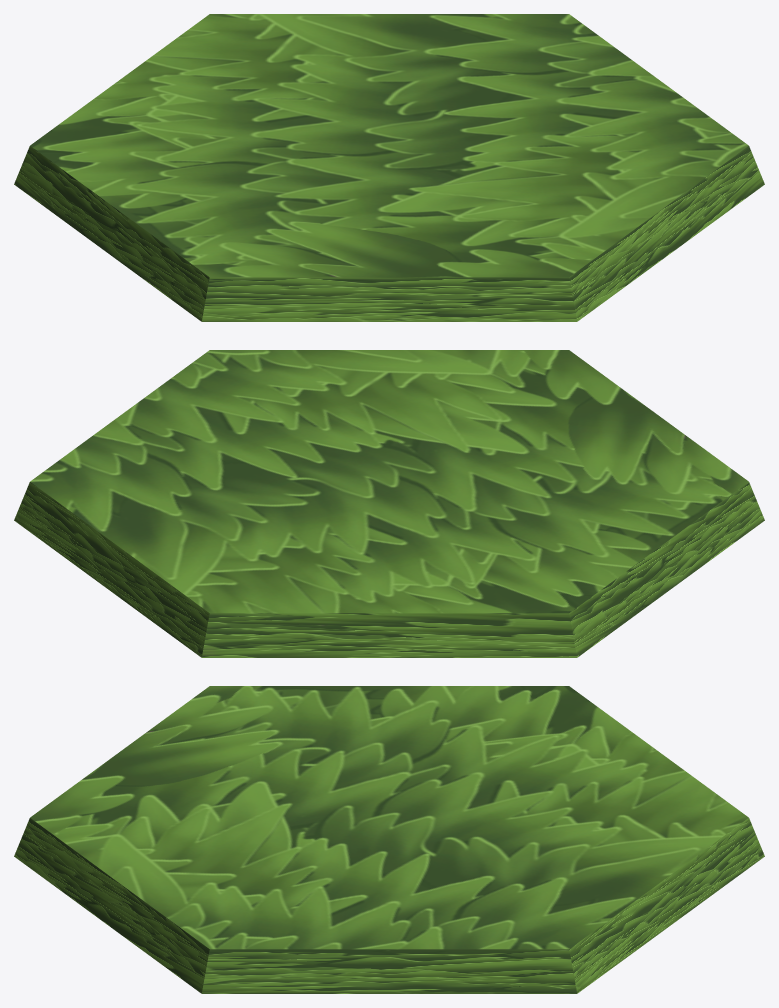
The model's file is Map_hex_tile.fbx.
The picture shows the model from 3 angles, top to bottom: view 1: azimuth 30°, elevation 25°; view 2: azimuth 150°, elevation 25°; view 3: azimuth 270°, elevation 25°; orthographic projection.
Visible parts, largest first — view 1: Cylinder; view 2: Cylinder; view 3: Cylinder.
Part boxes in pixels (box(x1,y1,x2,y2)): Cylinder: box(14, 14, 764, 321); Cylinder: box(14, 350, 764, 657); Cylinder: box(14, 686, 764, 993).
Size of the model in its own units: 173 by 11.4 by 200.
